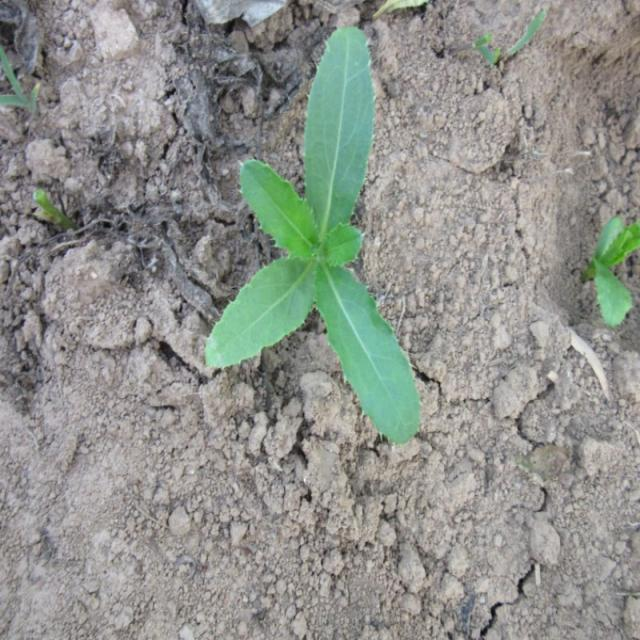cs: (206, 24, 421, 442)
